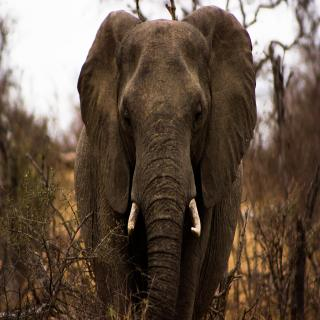Elephant: (70, 3, 260, 320)
